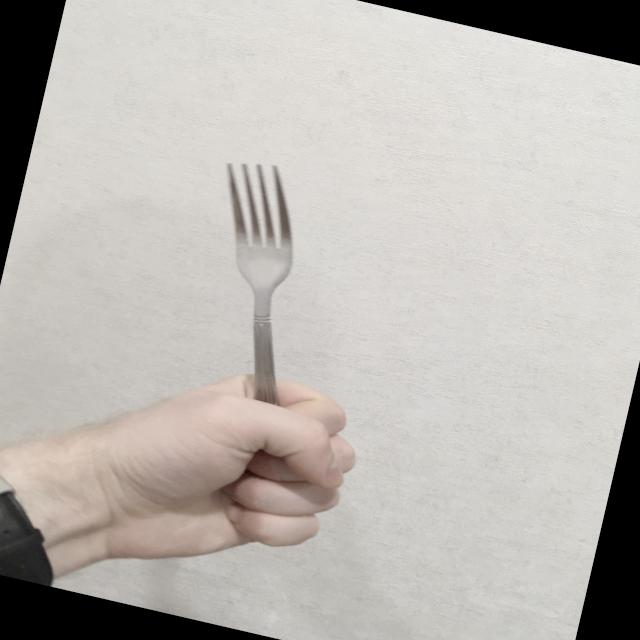fork: (156, 154, 337, 486)
